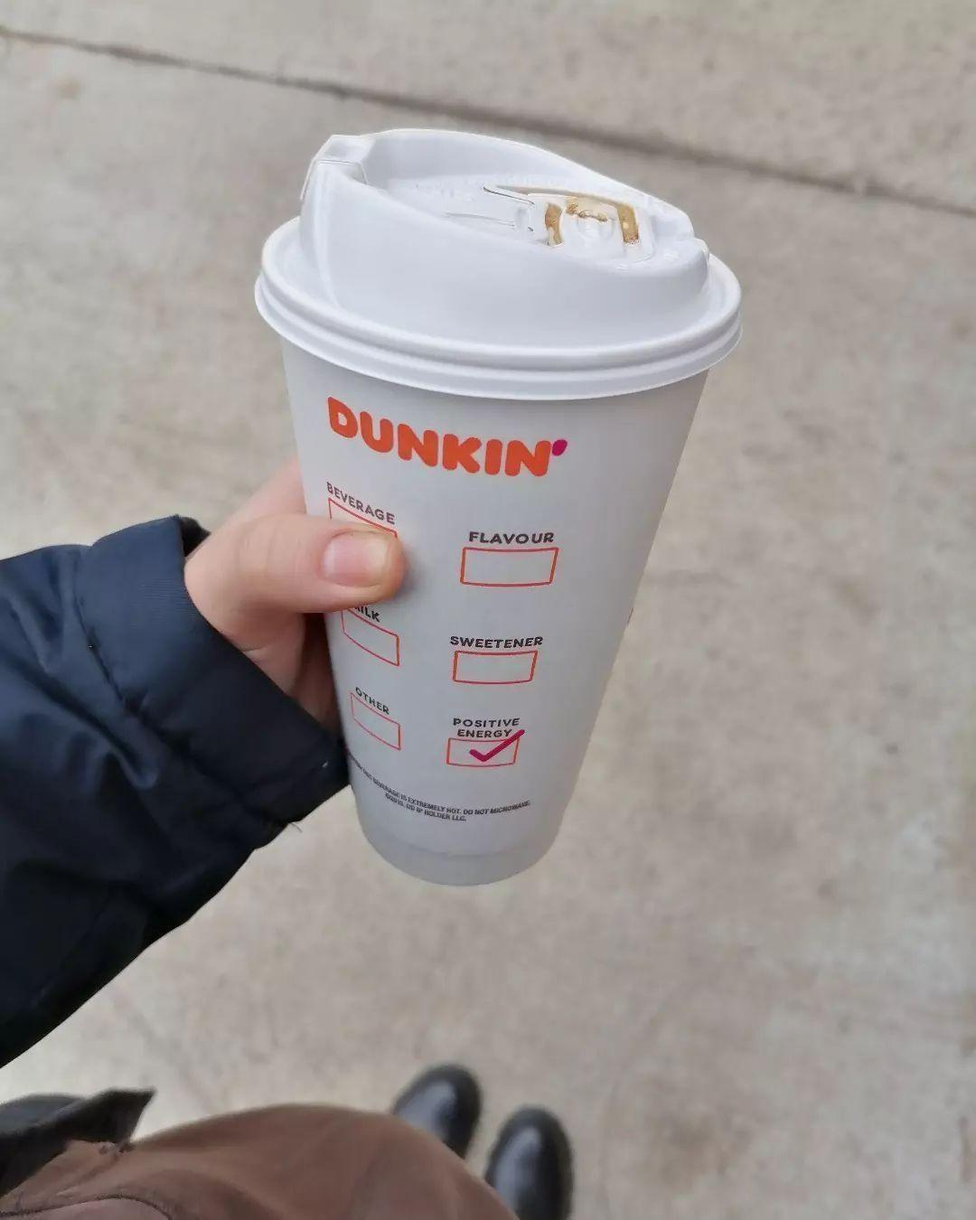cup-disposable: (258, 107, 748, 904)
